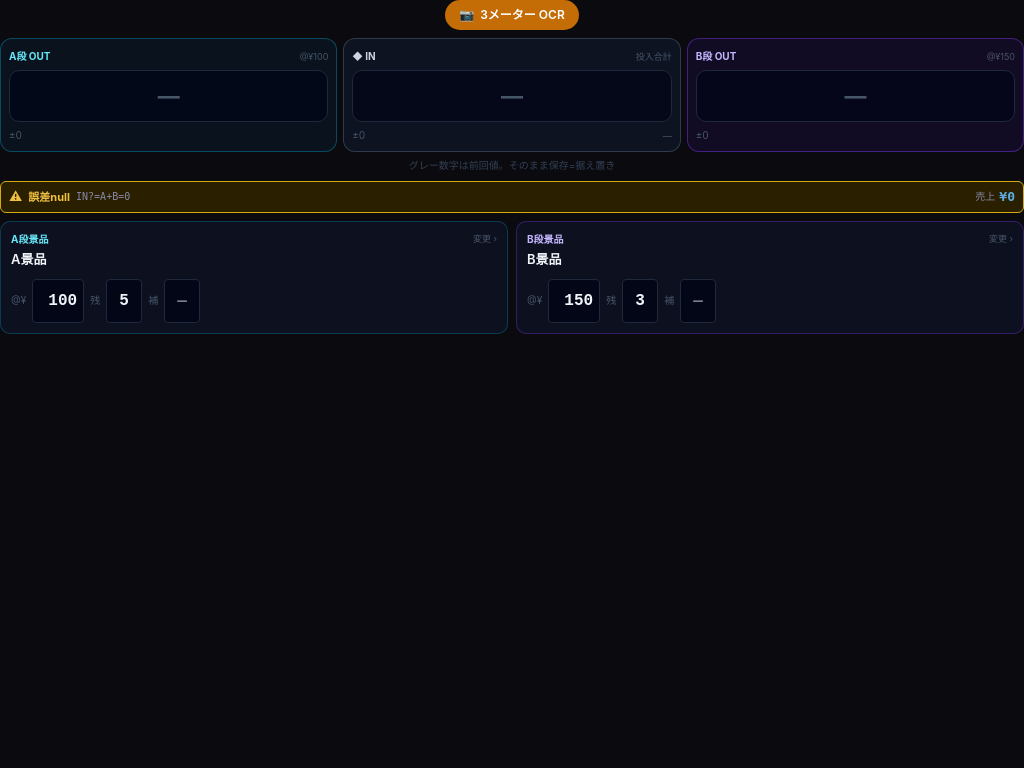
Test: GachaInputV3 — 景品変更モーダルの誤発火防止 › D2 パターンで B段カードをタップすると「B段 景品変更」モーダルが開く
B段の「変更 ›」は複数あるので getAllByText で2番目を使う
Click the text "変更 ›" in the row of "B段景品": (1001, 239) [989,232,1013,246]
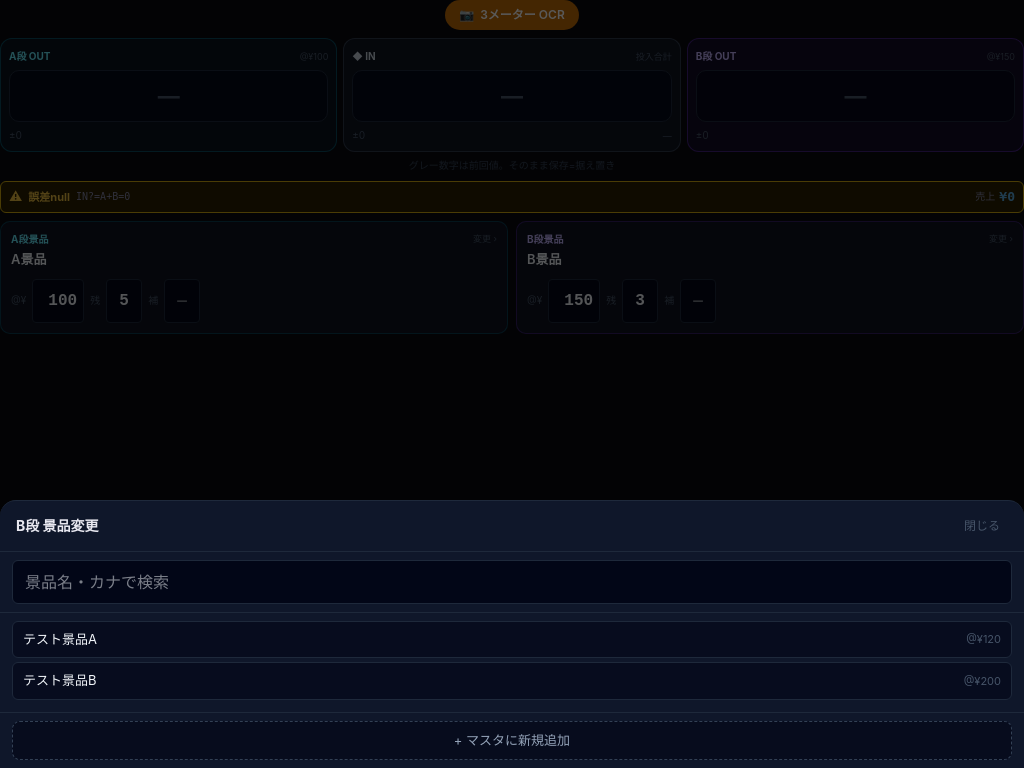
expect the text "B段 景品変更" is shown: met, box [16,515,99,536]
